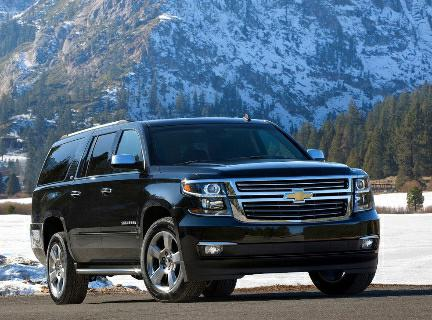雪佛兰-Suburban: (28, 115, 384, 302)
